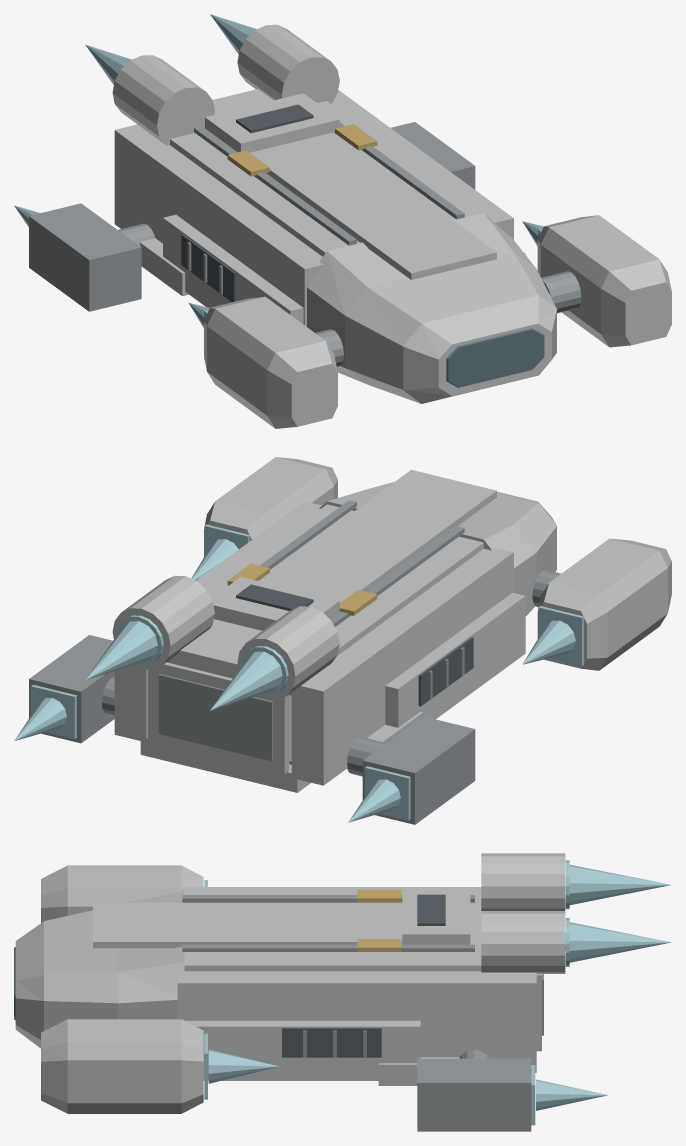
File: shipit_white_flight.glb
3 renders of one model, top to bottom at view 1: azimuth 30°, elevation 25°; view 2: azimuth 150°, elevation 25°; view 3: azimuth 270°, elevation 25°, orthographic. The views are drawn at different scales.
Parts seen in each view (by area): view 1: body_0, engine_L_pivot_housing, engine_R_pivot_housing, rear_L_pivot_housing, body_1, body_2, body_4, rear_R_pivot_housing, body_5, body_3; view 2: body_0, engine_L_pivot_housing, rear_L_pivot_housing, cargo_ramp_detail, engine_R_pivot_housing, body_5, body_1, rear_R_pivot_housing, cargo_ramp_panel, body_4, engine_L_pivot_jet, engine_L_pivot_nozzle (+7 smaller); view 3: body_0, engine_R_pivot_housing, rear_R_pivot_housing, engine_L_pivot_housing, body_5, body_1, body_4, engine_R_pivot_jet, body_3, rear_R_pivot_jet, cargo_ramp_panel.
Part boxes in pixels (bbox=[...]): body_0: bbox=[112, 24, 556, 403]; engine_L_pivot_housing: bbox=[204, 296, 337, 428]; engine_R_pivot_housing: bbox=[537, 215, 671, 347]; rear_L_pivot_housing: bbox=[29, 203, 141, 311]; body_1: bbox=[118, 122, 581, 366]; body_2: bbox=[446, 328, 544, 387]; body_4: bbox=[181, 104, 313, 302]; rear_R_pivot_housing: bbox=[390, 122, 475, 189]; body_5: bbox=[85, 14, 256, 84]; body_3: bbox=[227, 124, 377, 176]; body_0: bbox=[112, 470, 556, 792]; engine_L_pivot_housing: bbox=[537, 538, 671, 670]; rear_L_pivot_housing: bbox=[362, 716, 475, 824]; cargo_ramp_detail: bbox=[158, 674, 272, 761]; engine_R_pivot_housing: bbox=[204, 457, 337, 556]; body_5: bbox=[85, 615, 288, 710]; body_1: bbox=[101, 500, 560, 776]; rear_R_pivot_housing: bbox=[29, 635, 114, 743]; cargo_ramp_panel: bbox=[148, 662, 289, 774]; body_4: bbox=[236, 584, 473, 706]; engine_L_pivot_jet: bbox=[522, 620, 575, 664]; engine_L_pivot_nozzle: bbox=[538, 606, 583, 666]; body_0: bbox=[15, 853, 565, 1085]; engine_R_pivot_housing: bbox=[41, 1019, 203, 1113]; rear_R_pivot_housing: bbox=[417, 1058, 531, 1131]; engine_L_pivot_housing: bbox=[41, 865, 203, 922]; body_5: bbox=[565, 860, 671, 966]; body_1: bbox=[182, 895, 489, 1058]; body_4: bbox=[282, 894, 445, 1057]; engine_R_pivot_jet: bbox=[208, 1049, 278, 1083]; body_3: bbox=[357, 889, 401, 951]; rear_R_pivot_jet: bbox=[536, 1079, 607, 1110]; cargo_ramp_panel: bbox=[536, 974, 541, 1051].
Bounding box in the file's own units: 2.76 × 1.1 × 4.16.
